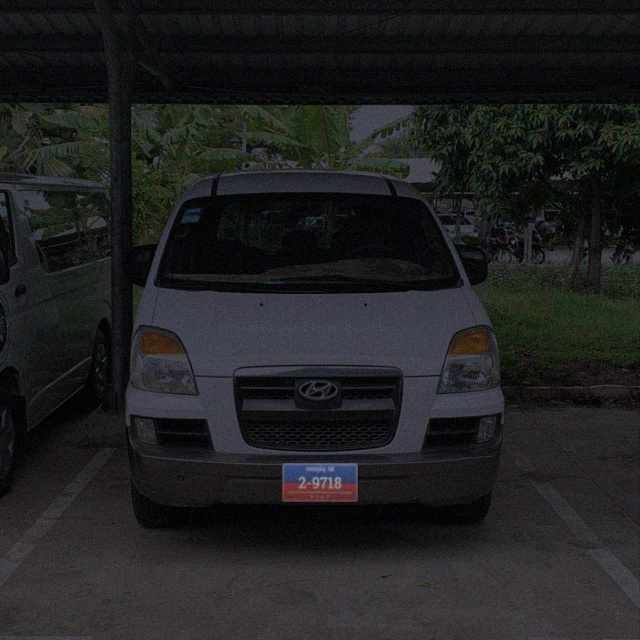Plate Number: (283, 463, 358, 502)
